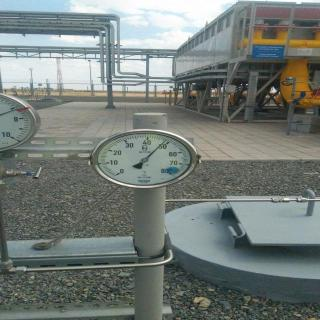gauge: (89, 128, 200, 190), (0, 91, 40, 153), (1, 131, 22, 145), (110, 168, 124, 180), (164, 169, 177, 180), (138, 157, 150, 164), (162, 140, 165, 143)
